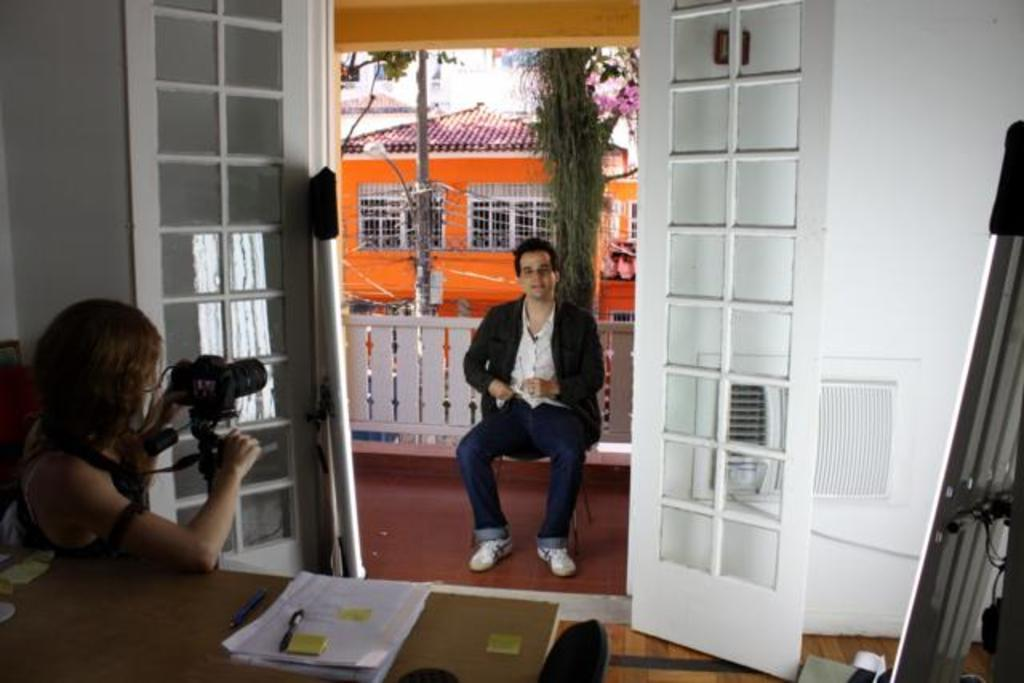door: (638, 32, 818, 628), (166, 41, 304, 542)
